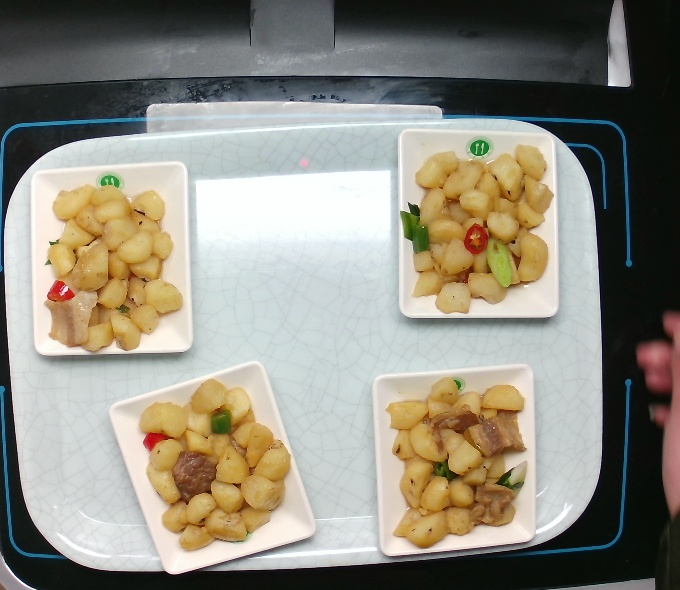wcq-MaTiGuoChaoRou: (129, 372, 298, 555), (393, 139, 558, 317), (378, 370, 538, 553), (36, 179, 188, 356)
